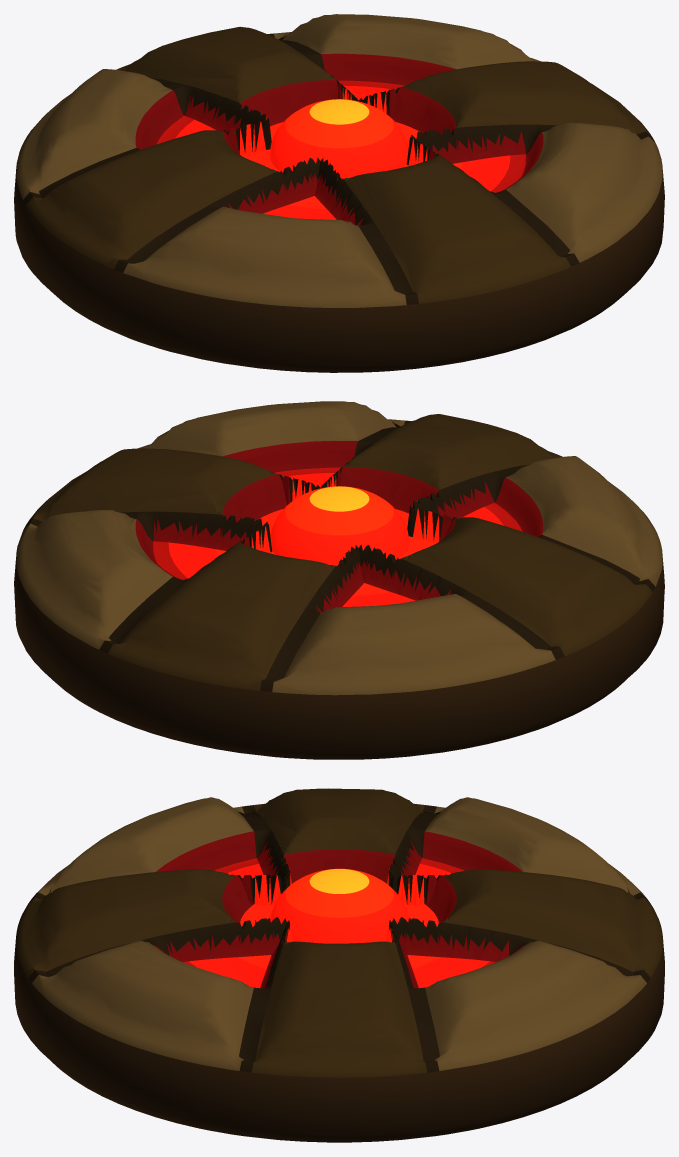
The model's file is disc_spokes_283.glb.
The picture shows the model from 3 angles, top to bottom: view 1: azimuth 30°, elevation 25°; view 2: azimuth 150°, elevation 25°; view 3: azimuth 270°, elevation 25°; orthographic projection.
Parts seen in each view (by area): view 1: disc_spokes_283; view 2: disc_spokes_283; view 3: disc_spokes_283.
Boxes of the visible parts, x1=… form: disc_spokes_283: x1=14, y1=14, x2=664, y2=372; disc_spokes_283: x1=14, y1=401, x2=664, y2=759; disc_spokes_283: x1=14, y1=788, x2=664, y2=1142.
Size of the model in its own units: 23.98 by 5.44 by 23.98.
